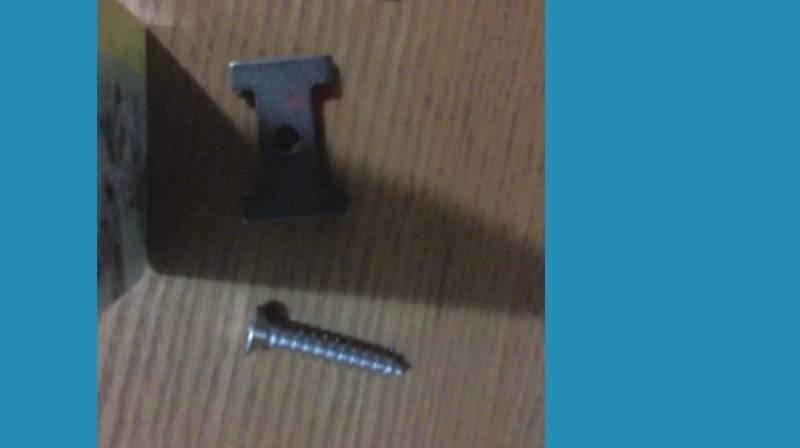O001: (297, 0, 425, 1)
O002: (224, 51, 350, 224)
S001: (233, 295, 416, 381)
